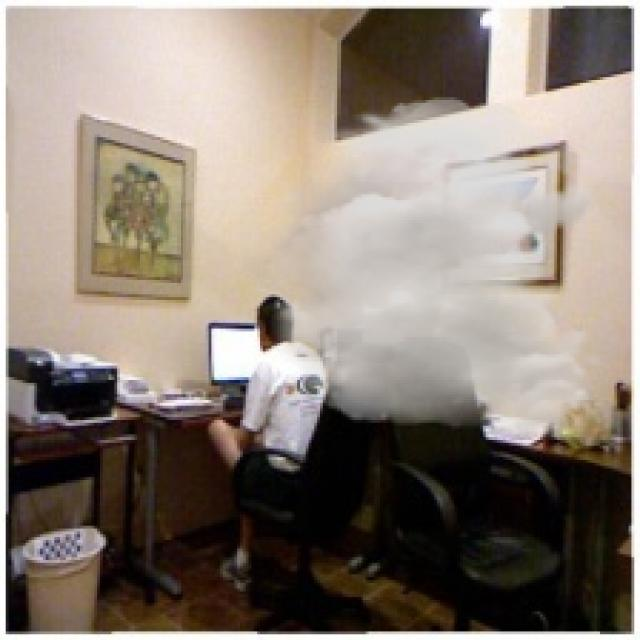smoke: (223, 97, 606, 440)
